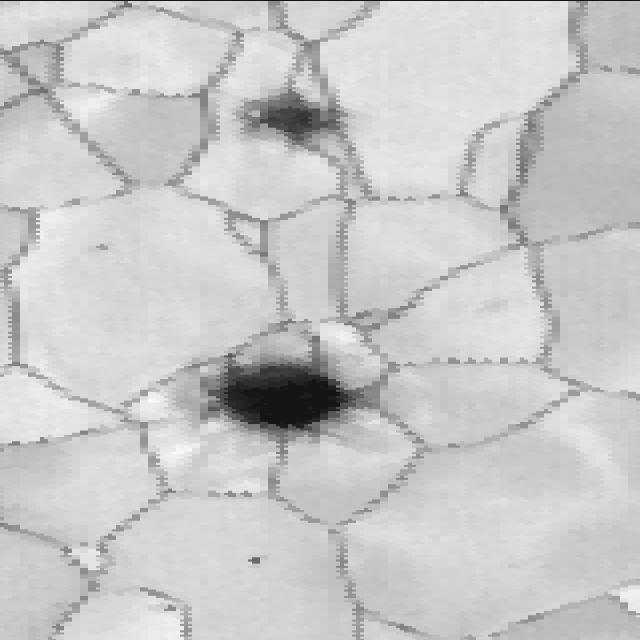good_void: (197, 355, 377, 446), (233, 81, 348, 159), (237, 545, 268, 564), (88, 241, 115, 257)
